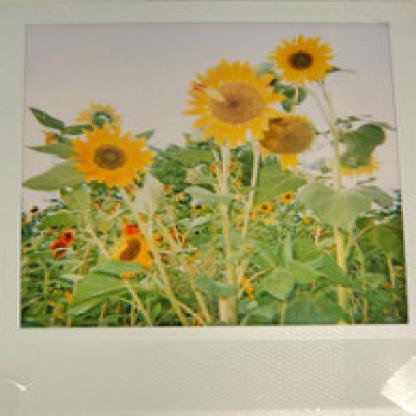SUN FLOWER: (38, 39, 392, 310)
